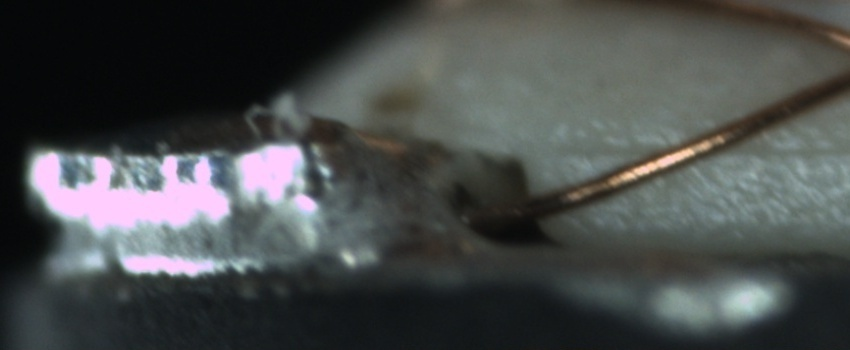DL: (556, 120, 849, 178)
